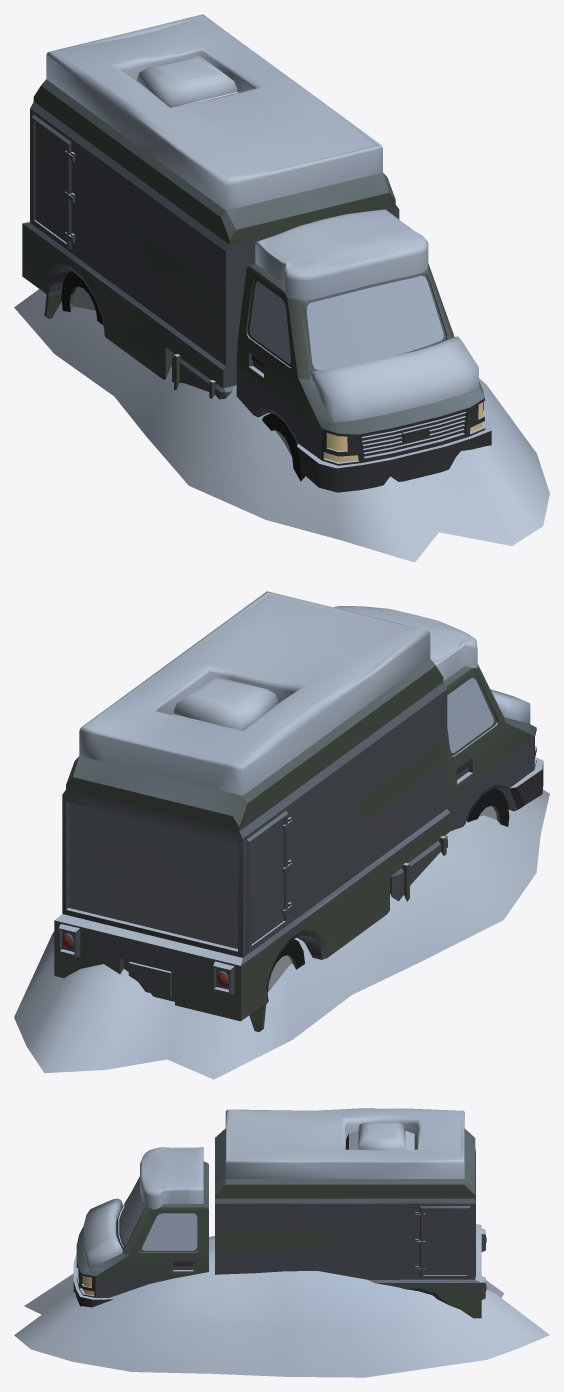
Rendered from military_truck_snowed.glb.
3 renders of one model, top to bottom at view 1: azimuth 30°, elevation 25°; view 2: azimuth 150°, elevation 25°; view 3: azimuth 270°, elevation 25°, orthographic. The views are drawn at different scales.
Visible parts, largest first — view 1: Body; view 2: Body; view 3: Body.
Boxes of the visible parts, <box> form: Body: <box>14,14,549,562</box>; Body: <box>14,591,549,1079</box>; Body: <box>14,1108,549,1377</box>.
Bounding box in the file's own units: 4.16 × 3.65 × 9.34.
